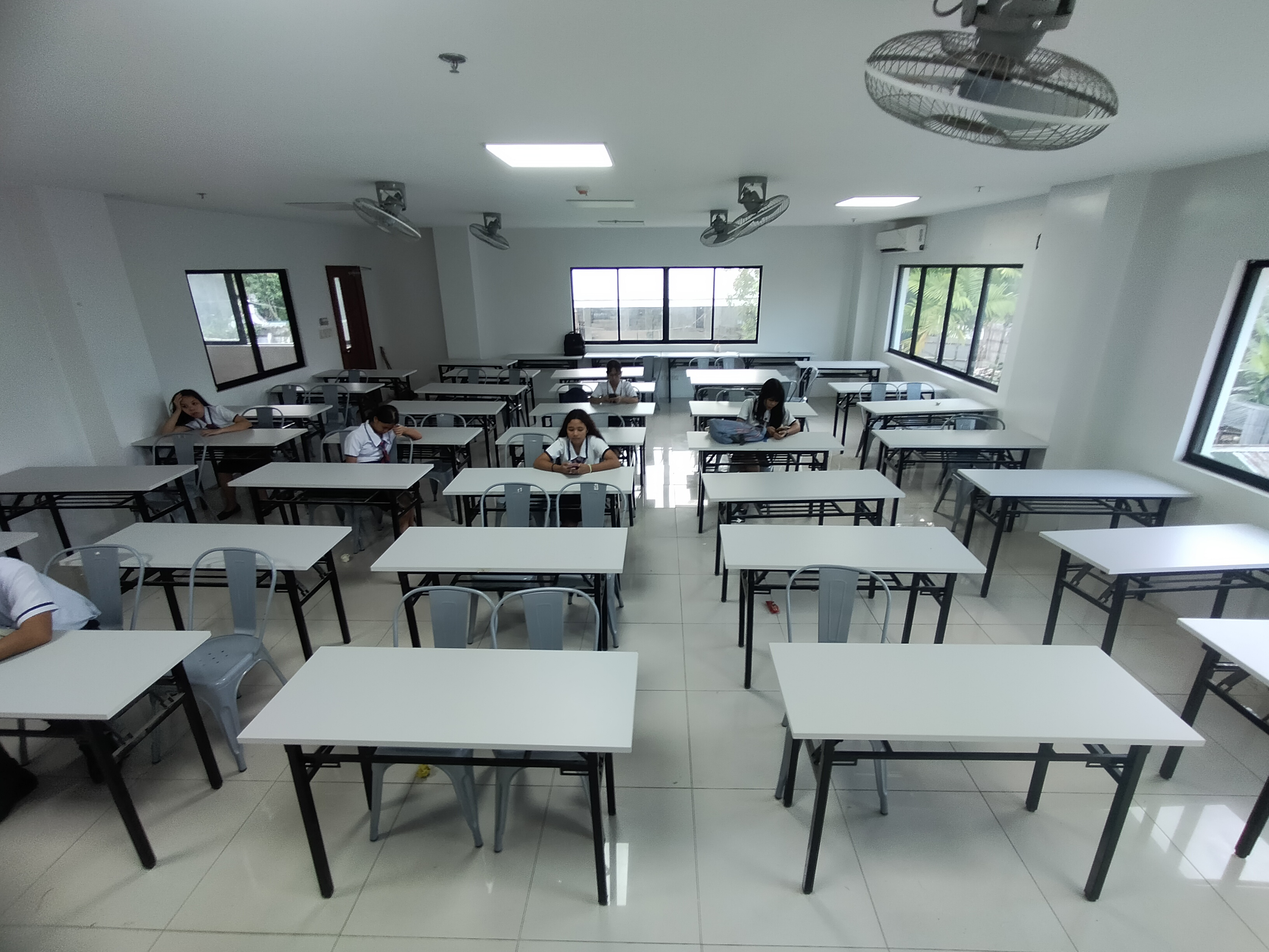with-student: (0, 533, 209, 782), (218, 395, 434, 501), (438, 403, 647, 512), (133, 366, 307, 465), (689, 376, 847, 460), (528, 361, 658, 420)
